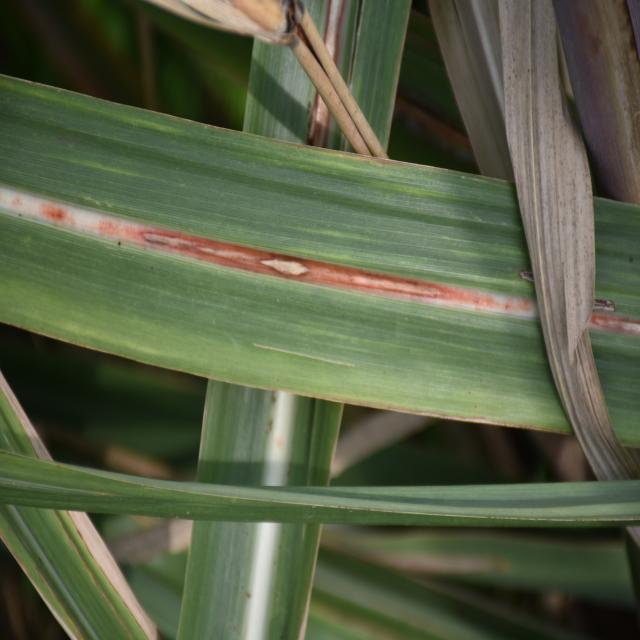Sugarcane: (0, 89, 633, 431), (0, 431, 633, 534), (304, 540, 632, 640), (0, 327, 208, 468)
